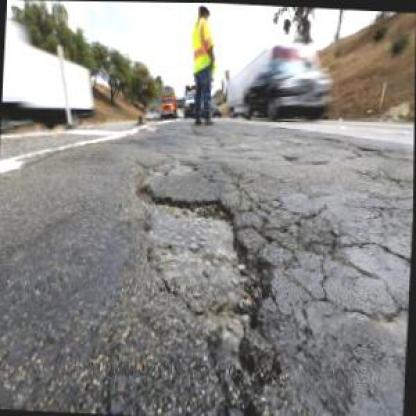pothole: (130, 179, 280, 324), (202, 328, 286, 414), (141, 155, 197, 179)
